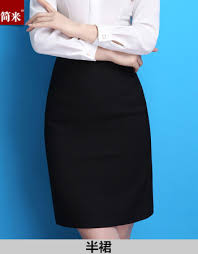F_tailored skirt: (37, 59, 162, 233)
